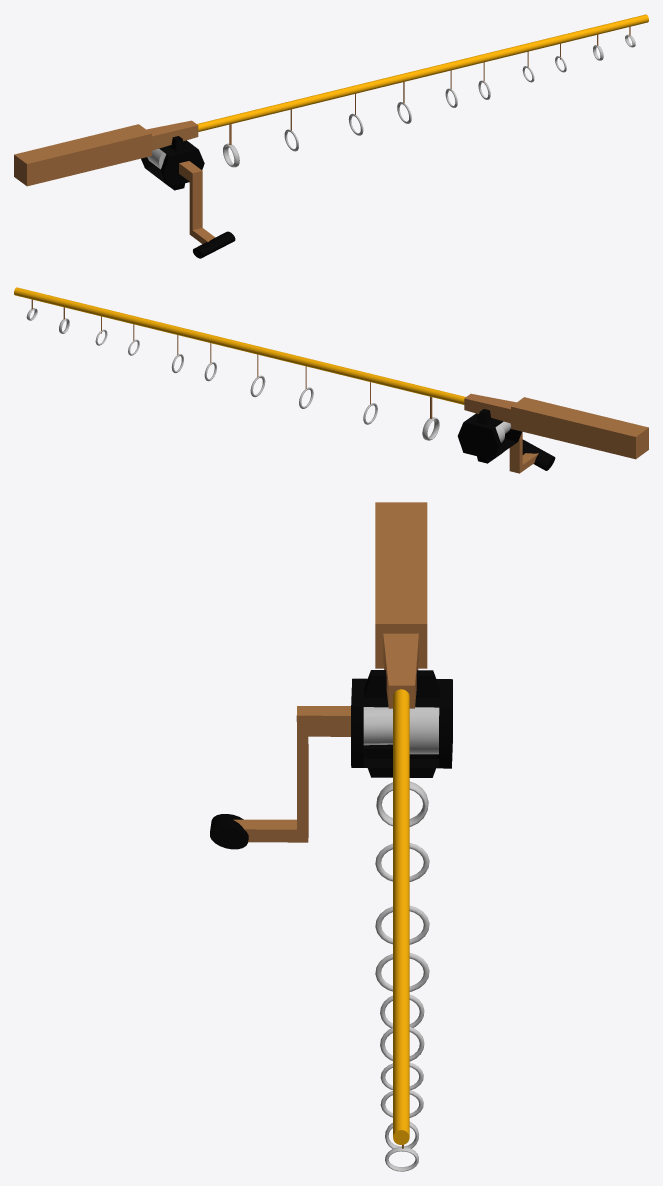
Rendered from rod.fbx.
3 views of the same model, one above another, from view 1: azimuth 30°, elevation 25°; view 2: azimuth 150°, elevation 25°; view 3: azimuth 270°, elevation 25° (orthographic). The views are drawn at different scales.
Visible parts, largest first — view 1: fishingRod; view 2: fishingRod; view 3: fishingRod.
Part boxes in pixels (x1,y1,x2,y2): fishingRod: (14,14,648,258); fishingRod: (14,287,648,473); fishingRod: (210,502,452,1171).
Bounding box in the file's own units: 2151 × 332 × 362.
